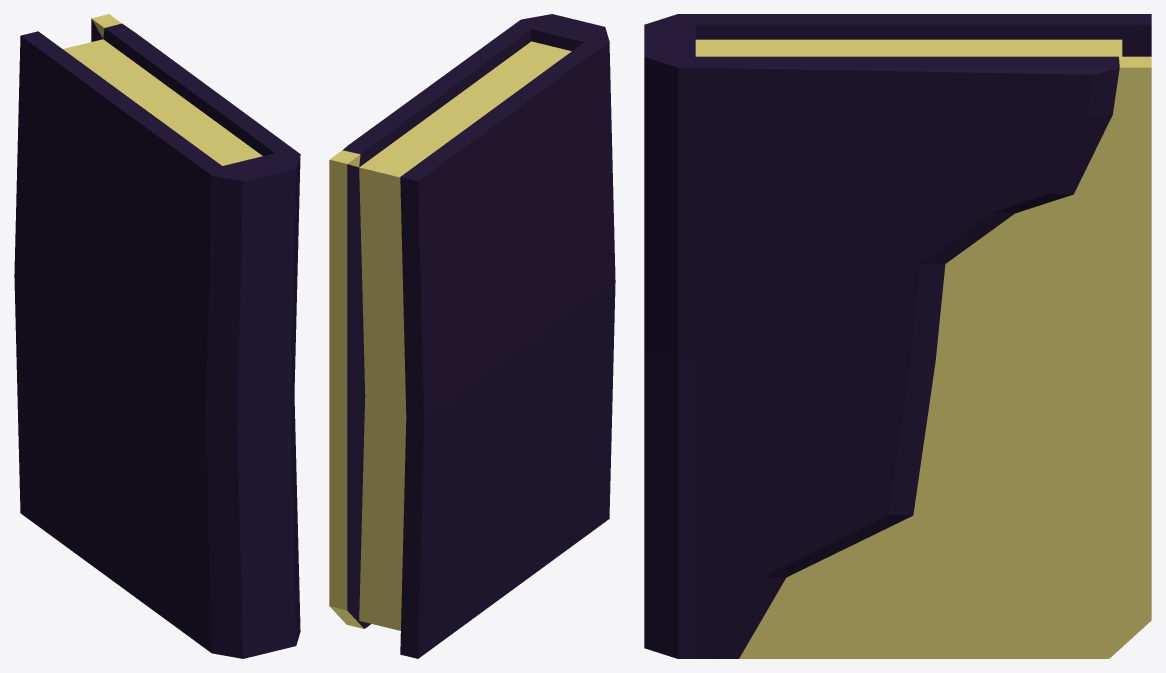
Rendered from book_worn.obj.
3 renders of one model, left to right at view 1: azimuth 30°, elevation 25°; view 2: azimuth 150°, elevation 25°; view 3: azimuth 270°, elevation 25°, orthographic. The views are drawn at different scales.
Visible parts, largest first — view 1: book_worn_Cube.040_clothPurple, book_worn_Cube.040_paperYellow; view 2: book_worn_Cube.040_clothPurple, book_worn_Cube.040_paperYellow; view 3: book_worn_Cube.040_clothPurple, book_worn_Cube.040_paperYellow.
Part boxes in pixels (x1,y1,x2,y2): book_worn_Cube.040_clothPurple: (14, 19, 300, 658); book_worn_Cube.040_paperYellow: (63, 14, 262, 165); book_worn_Cube.040_clothPurple: (342, 14, 615, 658); book_worn_Cube.040_paperYellow: (329, 41, 571, 630); book_worn_Cube.040_clothPurple: (644, 14, 1151, 658); book_worn_Cube.040_paperYellow: (695, 39, 1151, 658).
Size of the model in its own units: 0.1082 by 0.4984 by 0.3877.
